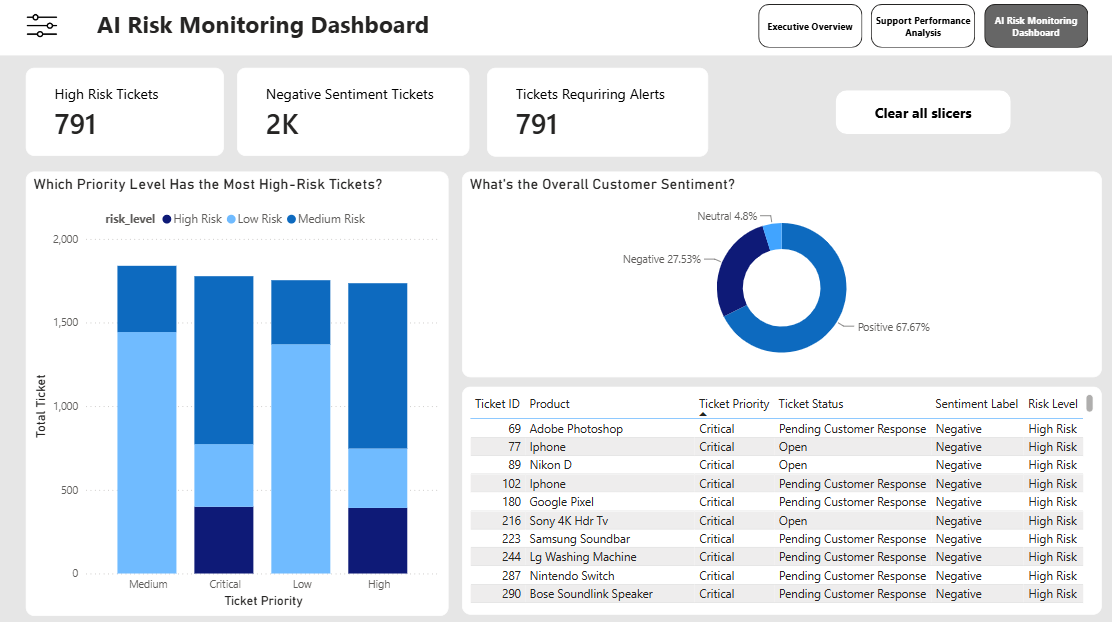

What the dashboard file says about the page in this screenshot:
{"tool":"powerbi","page":{"name":"AI Risk Monitoring Dashboard","canvas":[1280,720],"ordinal":2},"visuals":[{"type":"shape","box":[0,0,1280,720],"z":0},{"type":"shape","box":[0,0,1280,64.4],"z":1000},{"type":"cardVisual","fields":{"Data":["support_tickets_ai_ready.High_Risk_Tickets"]},"box":[33.3,78.9,226.7,101.1],"z":2000},{"type":"pageNavigator","box":[870,5.6,378.7,51],"z":3000},{"type":"textbox","box":[91.1,5.6,425.6,50],"z":4000},{"type":"actionButton","box":[33.3,5.6,36.7,50],"z":5000},{"type":"cardVisual","fields":{"Data":["support_tickets_ai_ready.Negative Sentiment Tickets"]},"box":[274.4,78.2,265.6,101.1],"z":6000},{"type":"cardVisual","fields":{"Data":["support_tickets_ai_ready.Tickets Requriring Alerts"]},"box":[559.9,78.2,252.5,101.5],"z":7000},{"type":"actionButton","box":[958.9,104.4,200,50],"z":8000},{"type":"donutChart","title":"What''s the Overall Customer Sentiment?","fields":{"Category":["support_tickets_ai_ready.sentiment_label"],"Y":["CountNonNull(support_tickets_ai_ready.ticket_id)"]},"box":[531.1,196.7,731.1,235.6],"z":9000},{"type":"columnChart","title":"Which Priority Level Has the Most High-Risk Tickets?","fields":{"Category":["support_tickets_ai_ready.ticket_priority"],"Series":["support_tickets_ai_ready.risk_level"],"Y":["CountNonNull(support_tickets_ai_ready.ticket_id)"]},"box":[33.3,196.7,483.3,507.8],"z":10000},{"type":"tableEx","fields":{"Values":["support_tickets_ai_ready.ticket_id","support_tickets_ai_ready.product_purchased","support_tickets_ai_ready.ticket_priority","support_tickets_ai_ready.ticket_status","support_tickets_ai_ready.sentiment_label","support_tickets_ai_ready.risk_level"]},"box":[531.1,443.3,731.1,261.1],"z":11000}]}

Visuals, with their boxes in screenshot pixels (x1, y1, x2, y2), scaled from the page's 1280x720 canvas onto the 1112x622 screenshot:
shape: {"left": 0, "top": 0, "right": 1111, "bottom": 621}
shape: {"left": 0, "top": 0, "right": 1111, "bottom": 56}
cardVisual - support_tickets_ai_ready.High_Risk_Tickets: {"left": 29, "top": 68, "right": 226, "bottom": 156}
pageNavigator: {"left": 756, "top": 5, "right": 1085, "bottom": 49}
textbox: {"left": 79, "top": 5, "right": 449, "bottom": 48}
actionButton: {"left": 29, "top": 5, "right": 61, "bottom": 48}
cardVisual - support_tickets_ai_ready.Negative Sentiment Tickets: {"left": 238, "top": 68, "right": 469, "bottom": 155}
cardVisual - support_tickets_ai_ready.Tickets Requriring Alerts: {"left": 486, "top": 68, "right": 706, "bottom": 155}
actionButton: {"left": 833, "top": 90, "right": 1007, "bottom": 133}
"What''s the Overall Customer Sentiment?" donutChart: {"left": 461, "top": 170, "right": 1097, "bottom": 373}
"Which Priority Level Has the Most High-Risk Tickets?" columnChart: {"left": 29, "top": 170, "right": 449, "bottom": 609}
tableEx - support_tickets_ai_ready.ticket_id x support_tickets_ai_ready.product_purchased: {"left": 461, "top": 383, "right": 1097, "bottom": 609}
